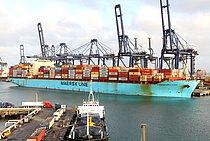Ship: (3, 55, 203, 101)
